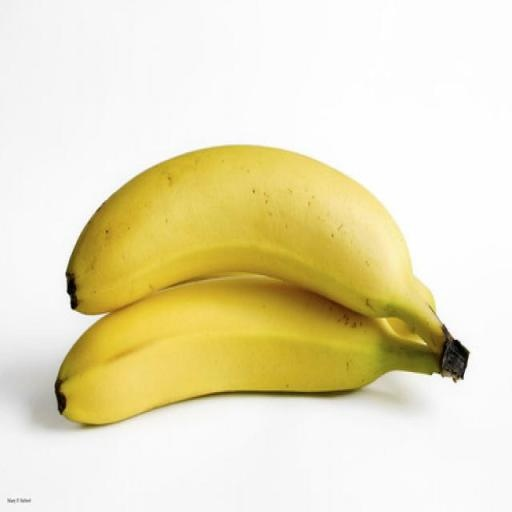fruit: (67, 146, 451, 353), (56, 277, 440, 423)
